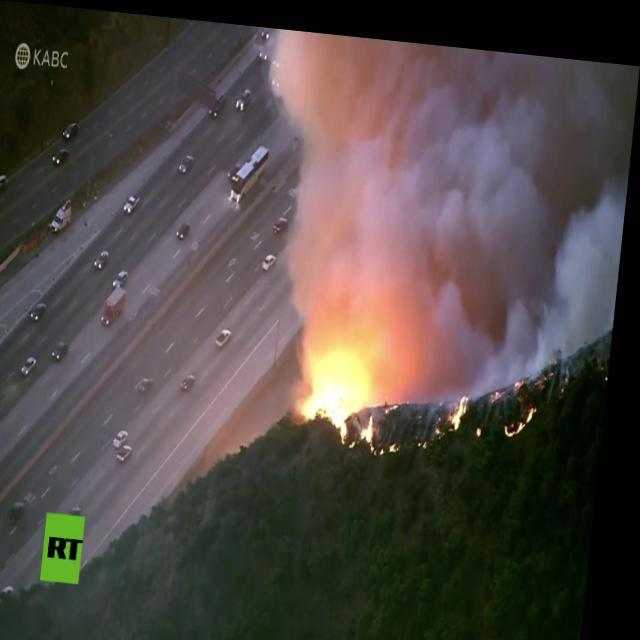Fire: (303, 345, 365, 437), (508, 392, 542, 428), (366, 408, 391, 448), (454, 379, 476, 421), (398, 432, 408, 444)
